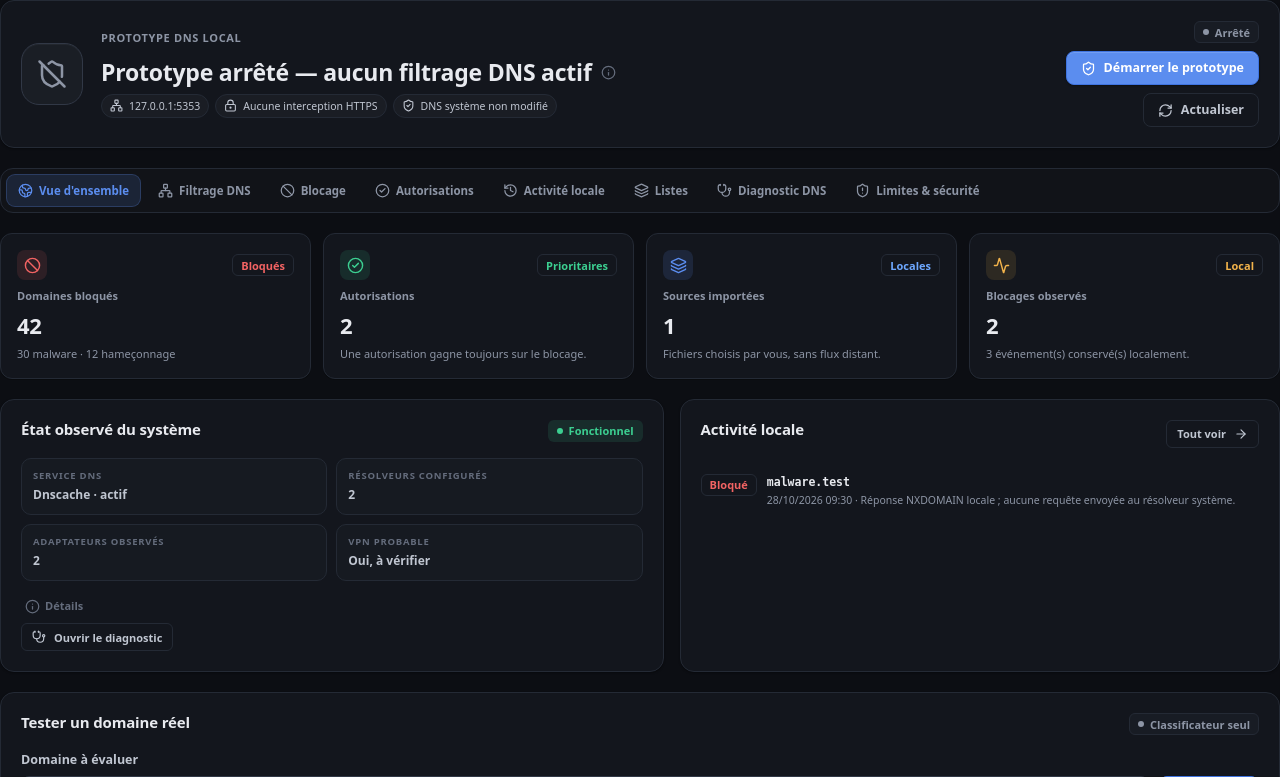
Scenario: WebGuard › starts the loopback prototype and updates the observed state
Click the button "Démarrer le prototype": (1162, 68) [1066,51,1259,85]
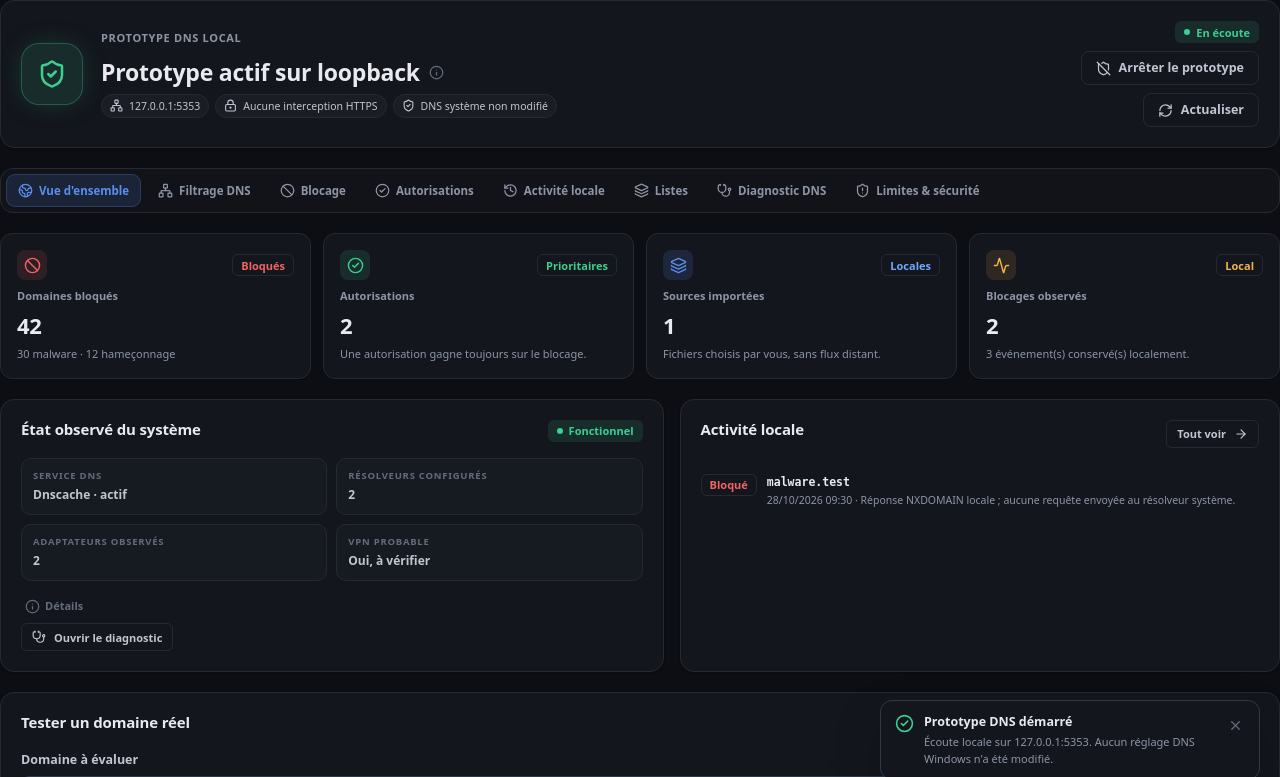
Now the heading "Prototype actif sur loopback" is shown, box [101,58,420,87]
